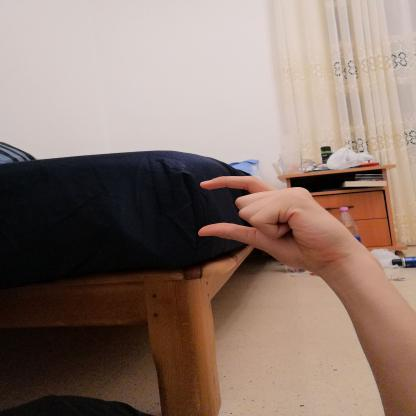DELL: (183, 168, 360, 281)
